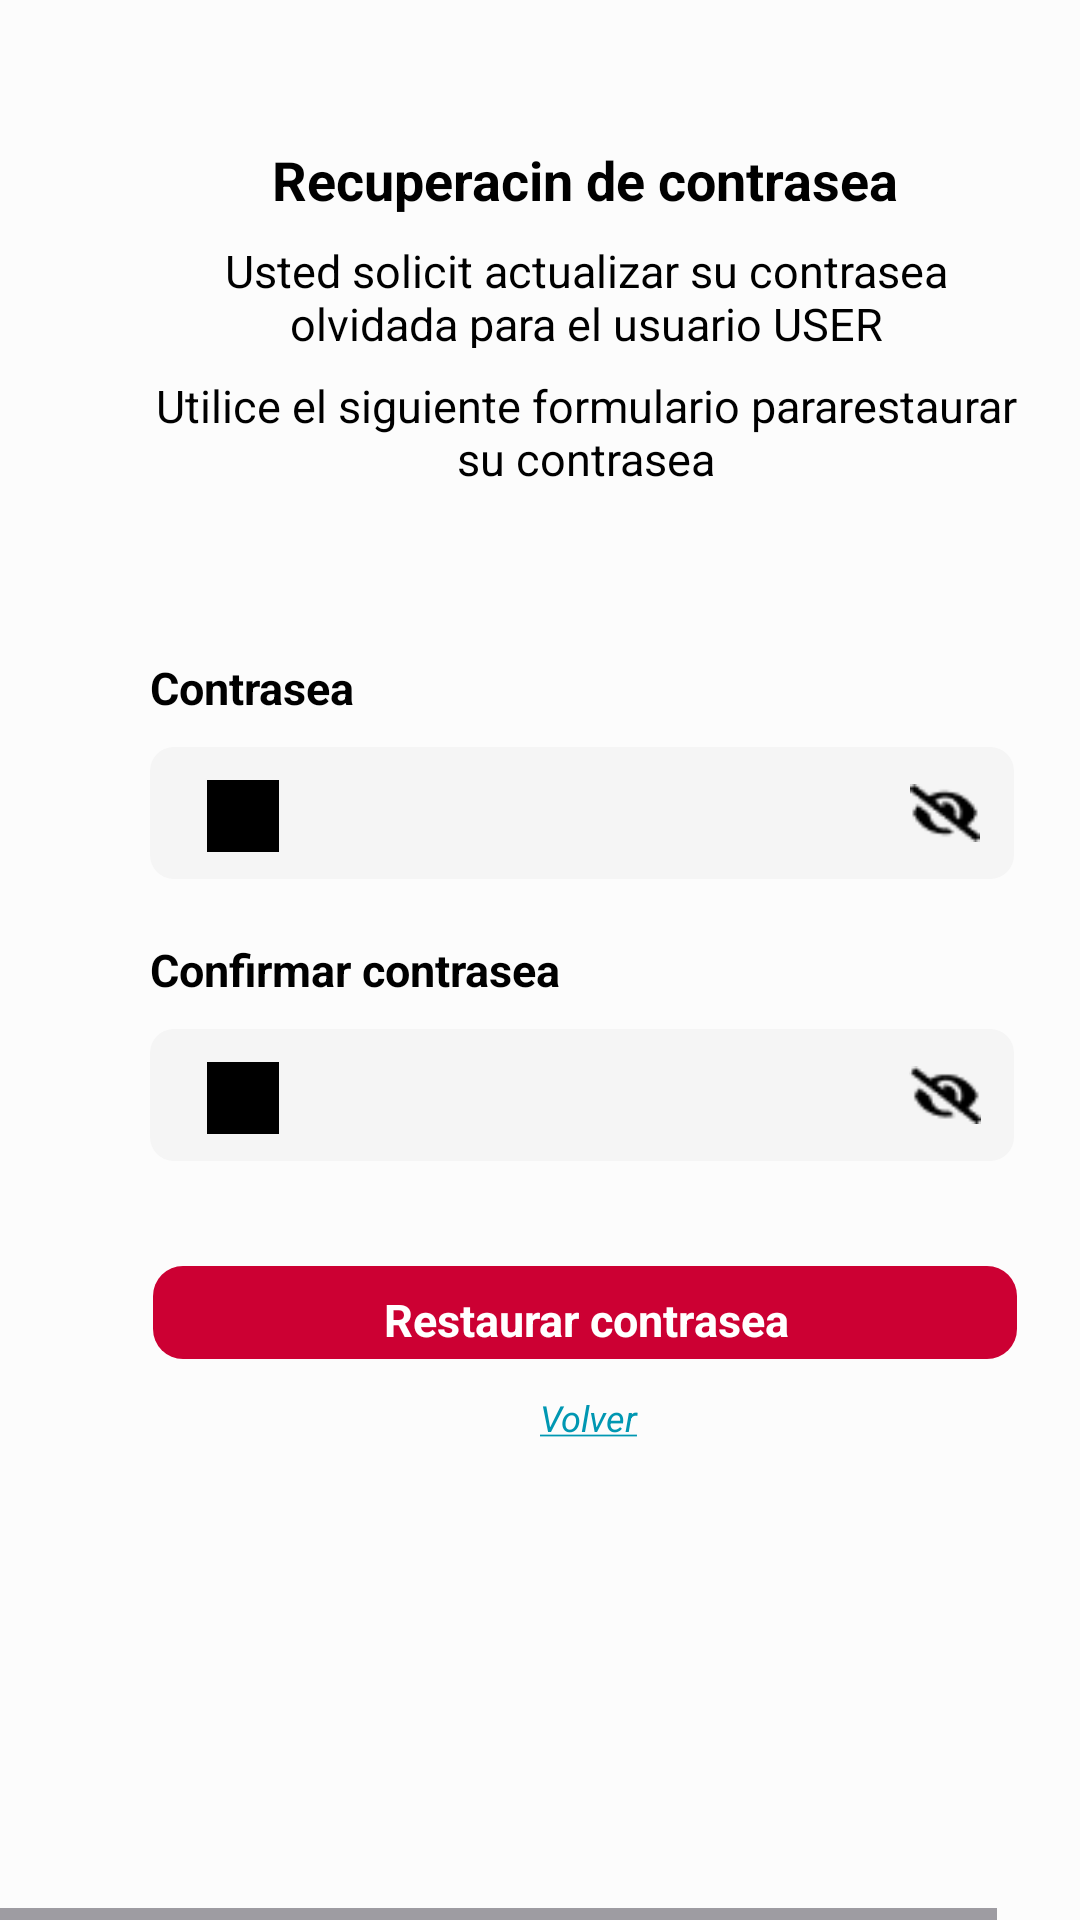

Icons on this 1080w x 1920h Android screen, each with its box as rect(x1, y1, x2, y2):
ojoicono: rect(910, 784, 980, 842)
ojoicono ek: rect(911, 1066, 981, 1124)
